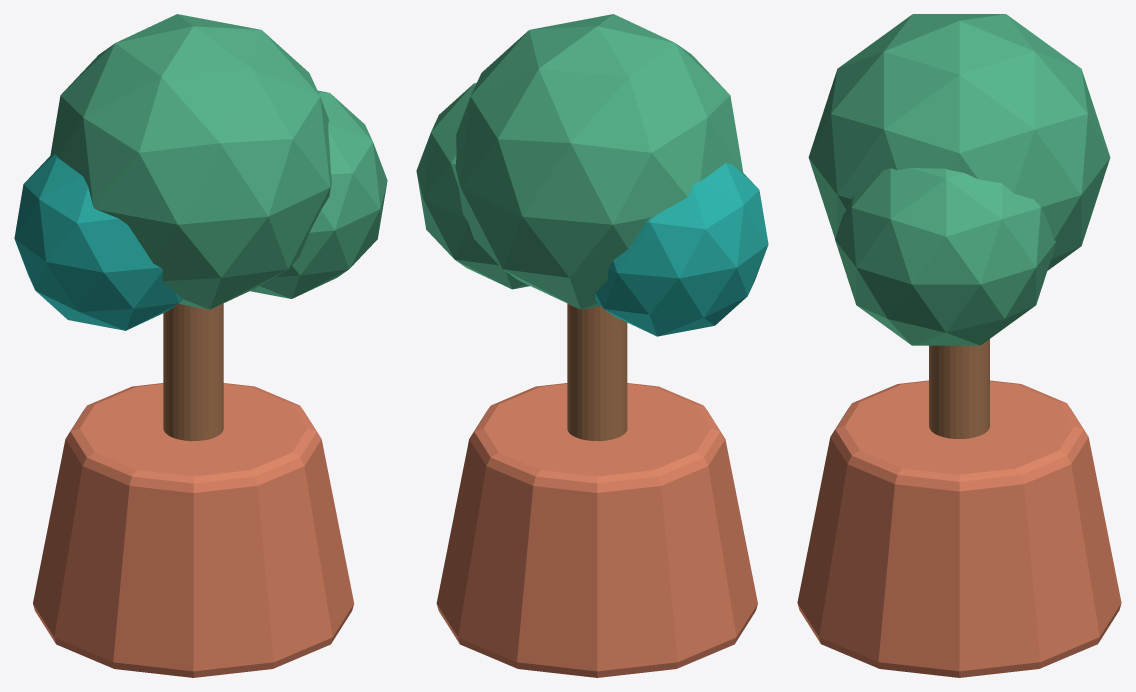
Rendered from CR_Planter.fbx.
3 views of the same model, side by side, from view 1: azimuth 30°, elevation 25°; view 2: azimuth 150°, elevation 25°; view 3: azimuth 270°, elevation 25° (orthographic).
Parts seen in each view (by area): view 1: Pot_Terracotta, Leaf_Teal_A, Leaf_Teal_B, Leaf_Green_C, Trunk_Wood; view 2: Pot_Terracotta, Leaf_Teal_A, Leaf_Teal_B, Trunk_Wood, Leaf_Green_C; view 3: Pot_Terracotta, Leaf_Teal_A, Leaf_Green_C, Trunk_Wood.
Boxes of the visible parts, x1,y1,x2,y2 form: Pot_Terracotta: (33, 383, 354, 677); Leaf_Teal_A: (50, 14, 331, 309); Leaf_Teal_B: (14, 154, 182, 330); Leaf_Green_C: (250, 90, 387, 298); Trunk_Wood: (163, 303, 223, 441); Pot_Terracotta: (436, 383, 757, 677); Leaf_Teal_A: (455, 14, 743, 309); Leaf_Teal_B: (595, 163, 768, 336); Trunk_Wood: (567, 303, 627, 441); Leaf_Green_C: (416, 82, 529, 289); Pot_Terracotta: (797, 380, 1121, 677); Leaf_Teal_A: (808, 14, 1110, 270); Leaf_Green_C: (835, 168, 1056, 345); Trunk_Wood: (929, 339, 989, 438).
Bounding box in the file's own units: 1.45 × 2.47 × 1.22.
